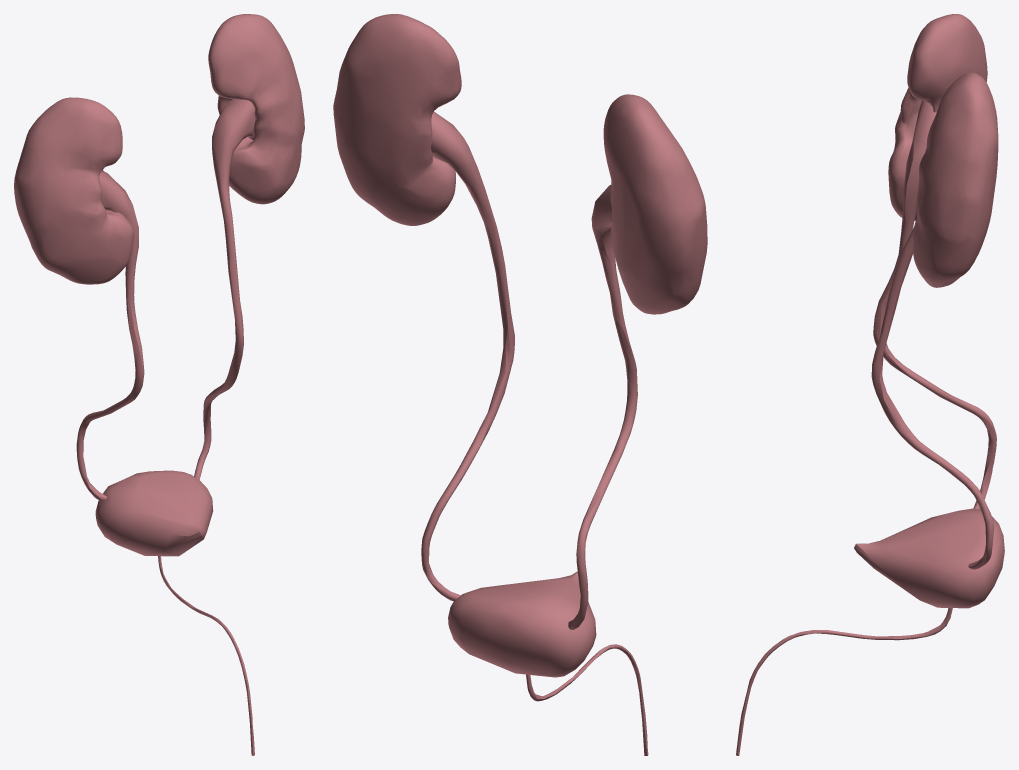
The model's file is urinary.glb.
The picture shows the model from 3 angles, left to right: view 1: azimuth 30°, elevation 25°; view 2: azimuth 150°, elevation 25°; view 3: azimuth 270°, elevation 25°; orthographic projection. The views are drawn at different scales.
Parts seen in each view (by area): view 1: FMA7204, FMA7205, FMA15900, FMA15572, FMA15571, FMA19667; view 2: FMA7205, FMA7204, FMA15900, FMA15572, FMA15571, FMA19667; view 3: FMA7205, FMA15900, FMA7204, FMA15571, FMA15572, FMA19667.
Boxes of the visible parts, left/top/right/bottom form: FMA7204: left=14, top=97, right=133, bottom=284; FMA7205: left=208, top=14, right=304, bottom=204; FMA15900: left=95, top=470, right=213, bottom=556; FMA15572: left=194, top=99, right=255, bottom=479; FMA15571: left=76, top=171, right=144, bottom=501; FMA19667: left=158, top=556, right=254, bottom=755; FMA7205: left=333, top=14, right=461, bottom=225; FMA7204: left=603, top=94, right=707, bottom=314; FMA15900: left=448, top=571, right=596, bottom=677; FMA15572: left=421, top=111, right=514, bottom=601; FMA15571: left=568, top=185, right=637, bottom=629; FMA19667: left=526, top=644, right=648, bottom=755; FMA7205: left=913, top=72, right=998, bottom=287; FMA15900: left=854, top=508, right=1004, bottom=608; FMA7204: left=888, top=14, right=987, bottom=220; FMA15571: left=873, top=100, right=996, bottom=510; FMA15572: left=871, top=226, right=993, bottom=569; FMA19667: left=736, top=608, right=952, bottom=755.
Size of the model in its own units: 0.3635 by 0.78 by 0.2607.
